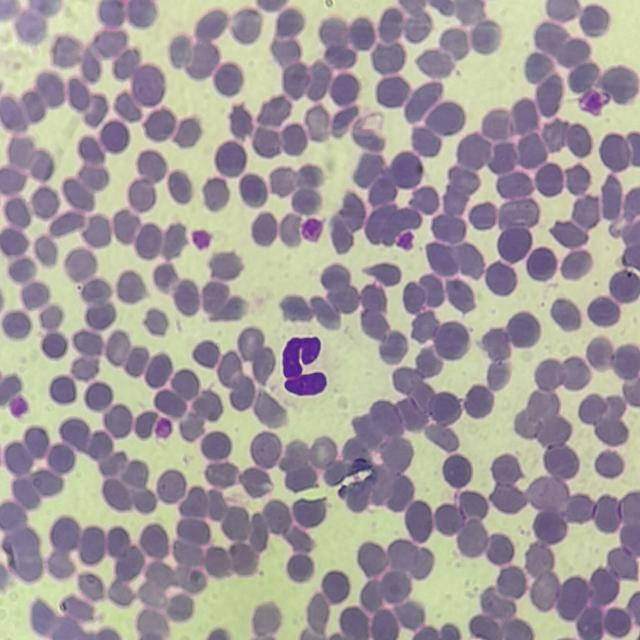Neutrofilo: (276, 332, 338, 408)
